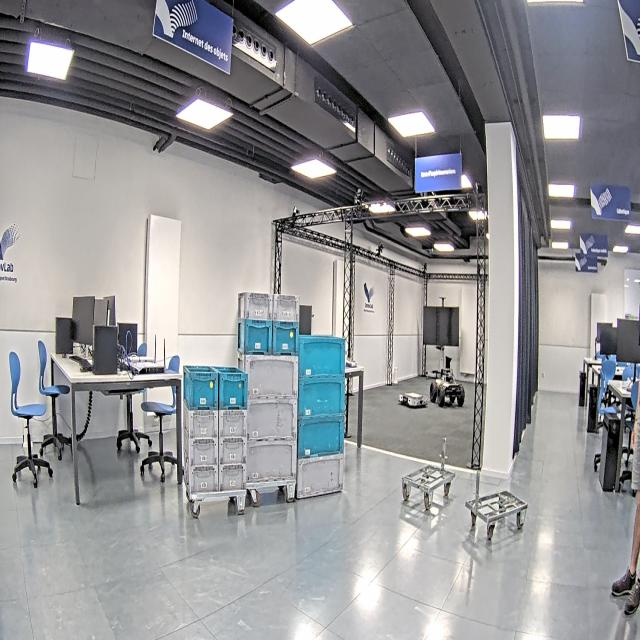Box3G: (238, 354, 298, 401), (244, 394, 298, 442), (245, 437, 298, 480), (296, 456, 344, 498)
Box8G: (180, 408, 218, 440), (238, 292, 273, 322), (184, 438, 218, 468), (184, 465, 219, 493), (219, 410, 250, 439), (217, 438, 247, 467), (217, 463, 247, 491), (272, 294, 300, 324)
BoxB4: (295, 374, 346, 420), (296, 334, 346, 380), (294, 416, 346, 460)
BoxB8: (180, 365, 219, 411), (214, 366, 248, 409), (238, 319, 275, 355), (272, 320, 300, 354)
